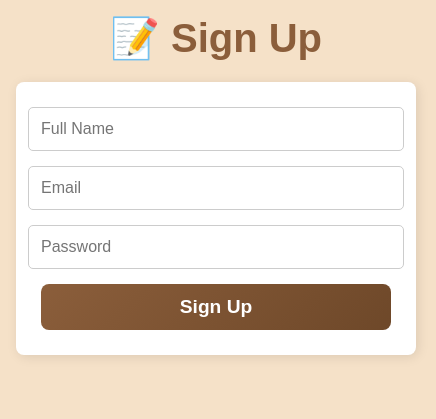
Test: Signup Page › signs up successfully and redirects
The image size is (436, 419).
In the field with placeholder "Full Name": (216,129) [28,107,404,151], type "John Doe"
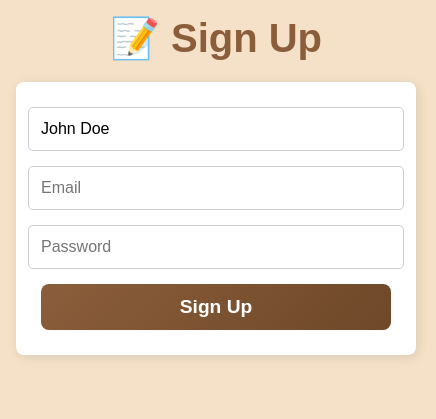
In the field with placeholder "Email": (216,188) [28,166,404,210], type "john@example.com"
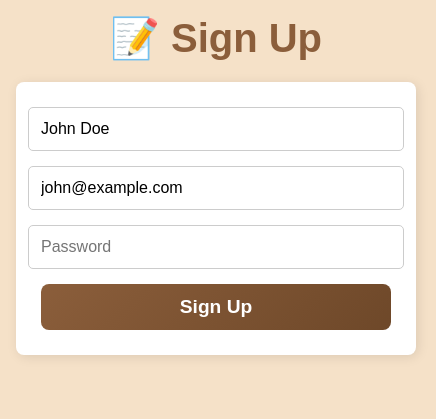
In the password field with placeholder "Password": (216,247) [28,225,404,269], type "password123"
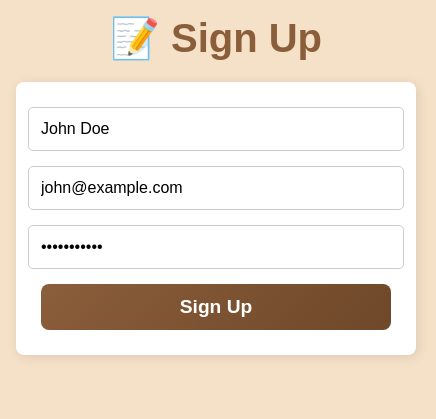
Click the button "Sign Up": (216,307) [41,284,391,330]
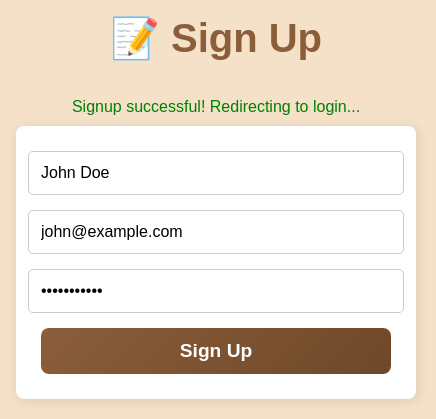
Check: the text "Signup successful! Redirecting to login..." is shown, box [72,98,360,116]
